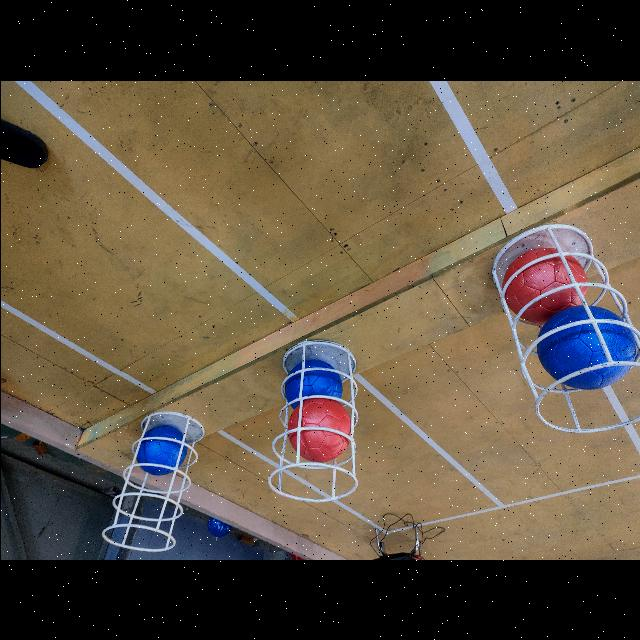B: (536, 310, 634, 392), (134, 424, 186, 476), (283, 361, 341, 399)
R: (507, 250, 587, 308), (286, 402, 350, 462)
